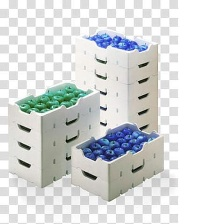plastic_box: (1, 75, 105, 193), (68, 21, 163, 145), (63, 118, 168, 205)
